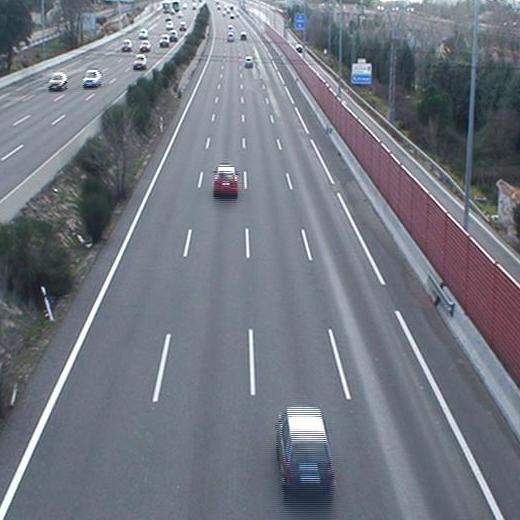car: (273, 408, 335, 498), (212, 163, 238, 200), (243, 55, 253, 68)
